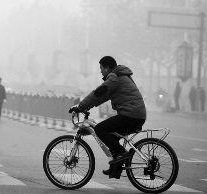person: (69, 53, 146, 179), (172, 80, 183, 112), (198, 87, 207, 113), (1, 78, 6, 121), (189, 86, 197, 112)
